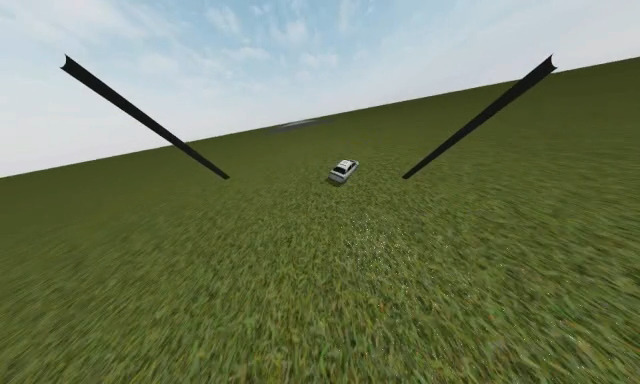Car: (327, 159, 360, 183)
